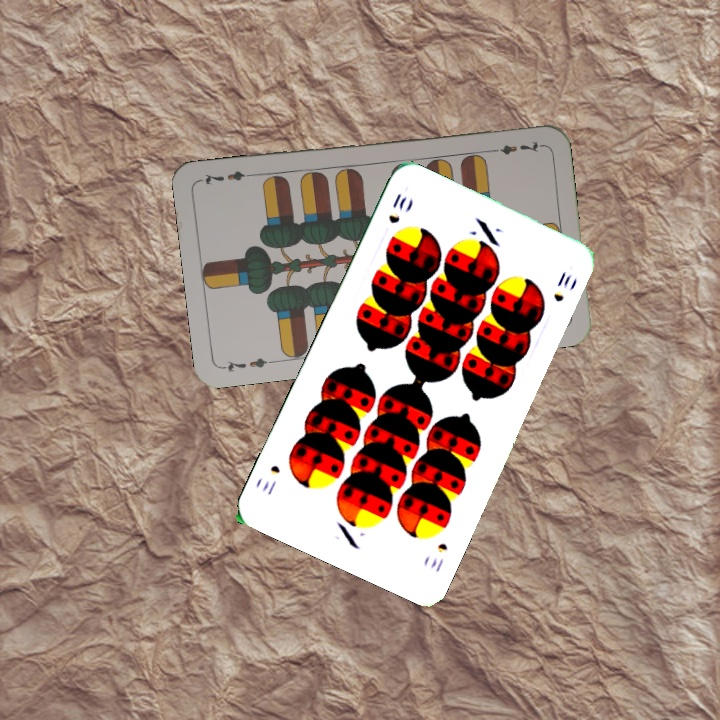E7: (219, 353, 278, 375), (485, 137, 544, 157)
S10: (384, 188, 410, 226), (426, 539, 451, 575)
